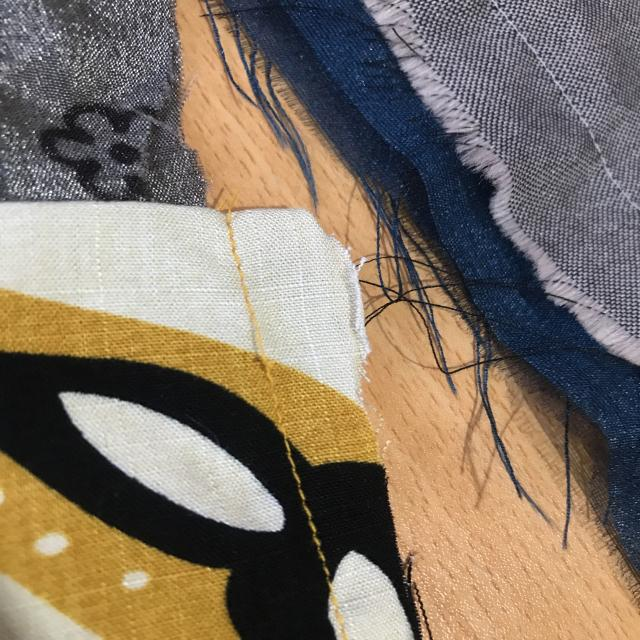skip: (236, 309, 279, 382)
